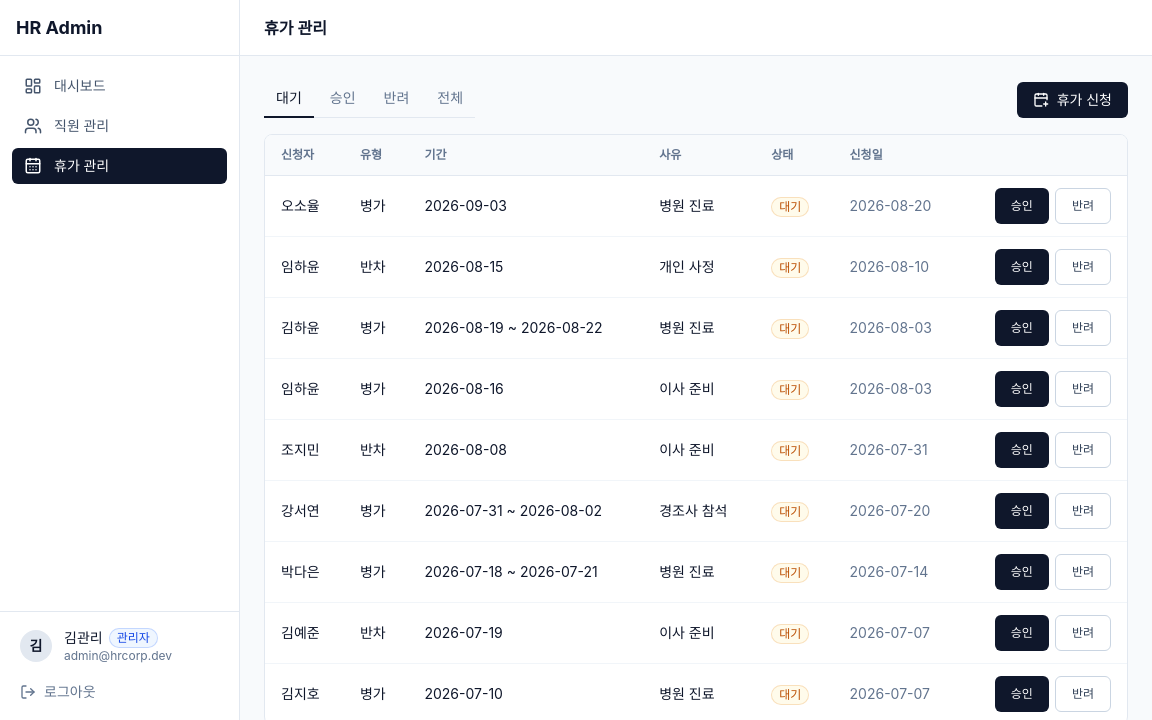
Test: LeavePage 낙관적 업데이트 › 409(이미 처리됨)면 전용 토스트를 띄우고 refetch로 서버 진실에 수렴한다
The width and height of the screenshot is (1152, 720).
Step 1. Click the 1st button "승인" → (1022, 206), box left=995, top=188, right=1049, bottom=224
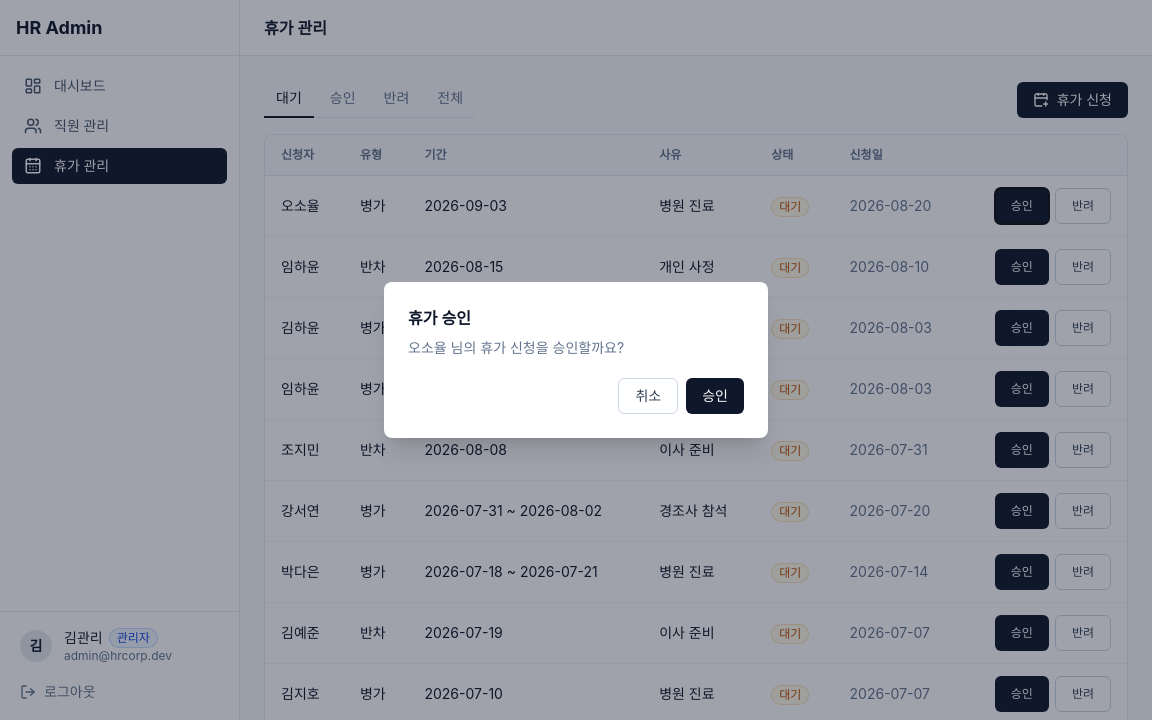
Step 2. Click the button "승인" → (715, 396), box left=686, top=378, right=744, bottom=414
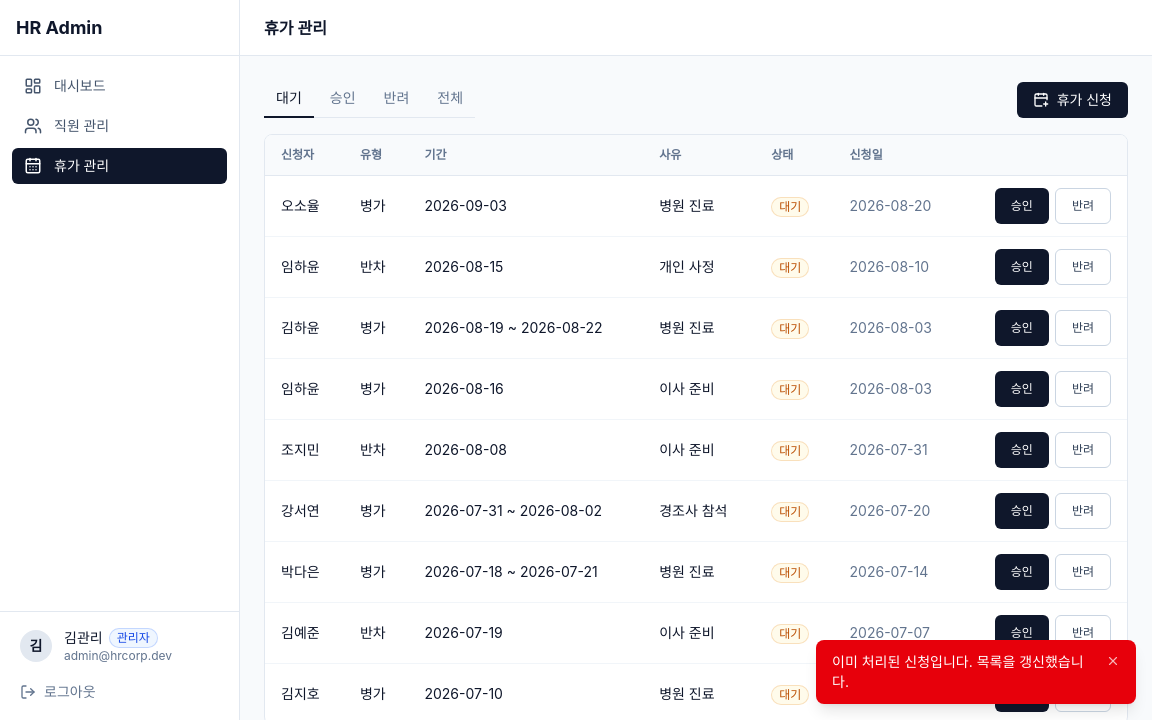
Expected: the 1st button "승인" is shown, left=995, top=188, right=1049, bottom=224
Expected: the message shows "이미 처리된 신청입니다", left=832, top=653, right=1084, bottom=690
